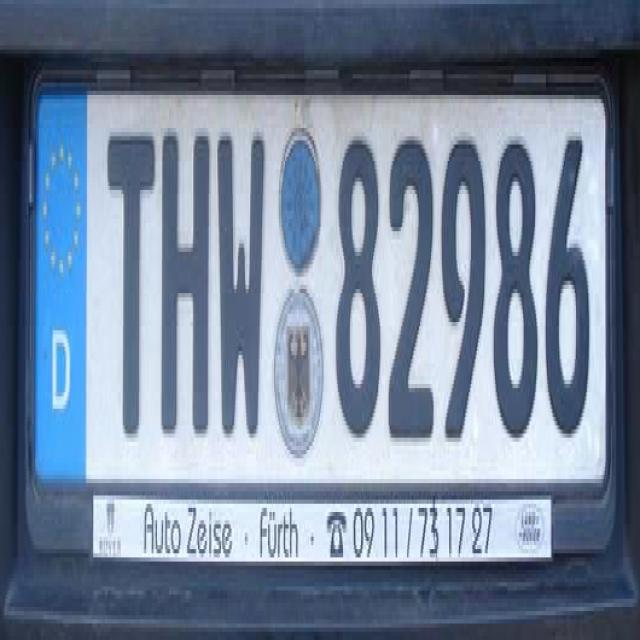Allemagne: (32, 87, 92, 551)
EU: (34, 87, 623, 600)
